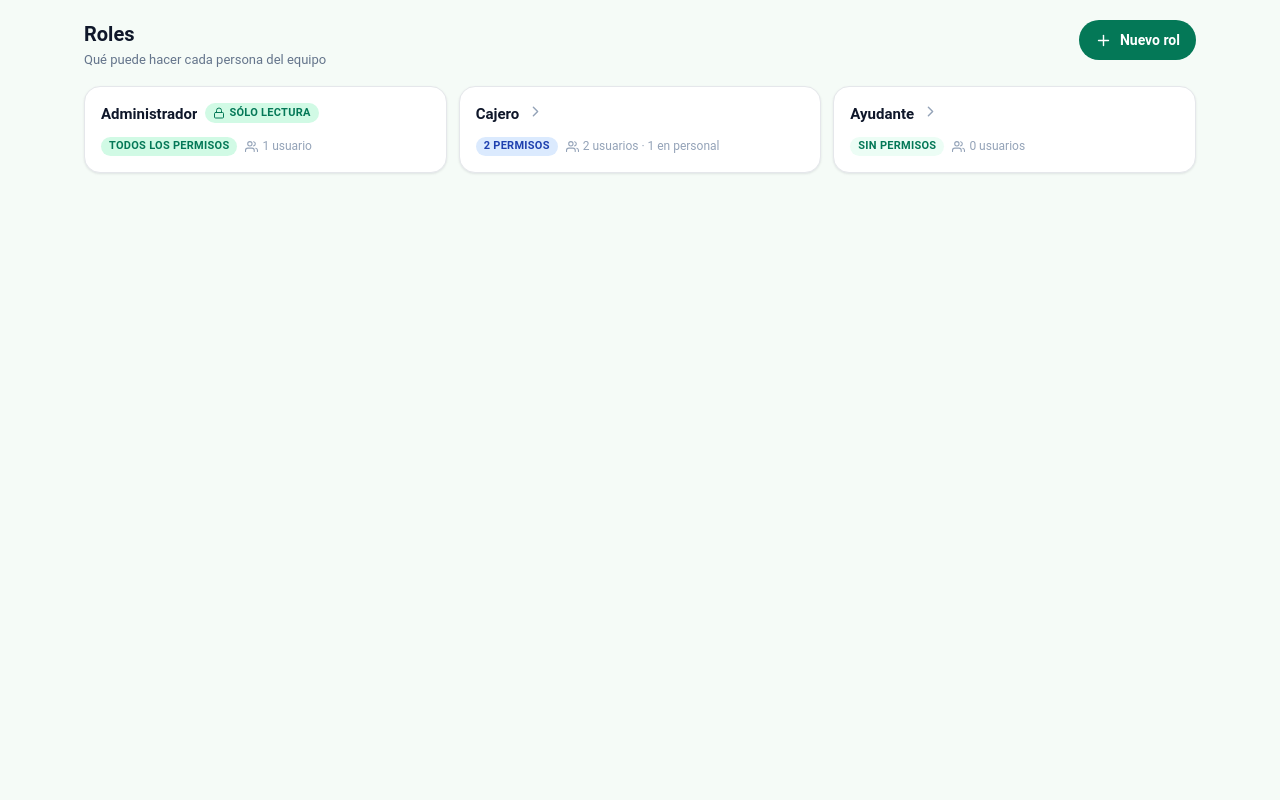
crear un rol › lo que el plan no incluye no aparece; lo que quien edita no tiene, apagado y con el motivo
The image size is (1280, 800).
Click the button "Nuevo rol": (1137,40) 1079,20 -> 1196,60
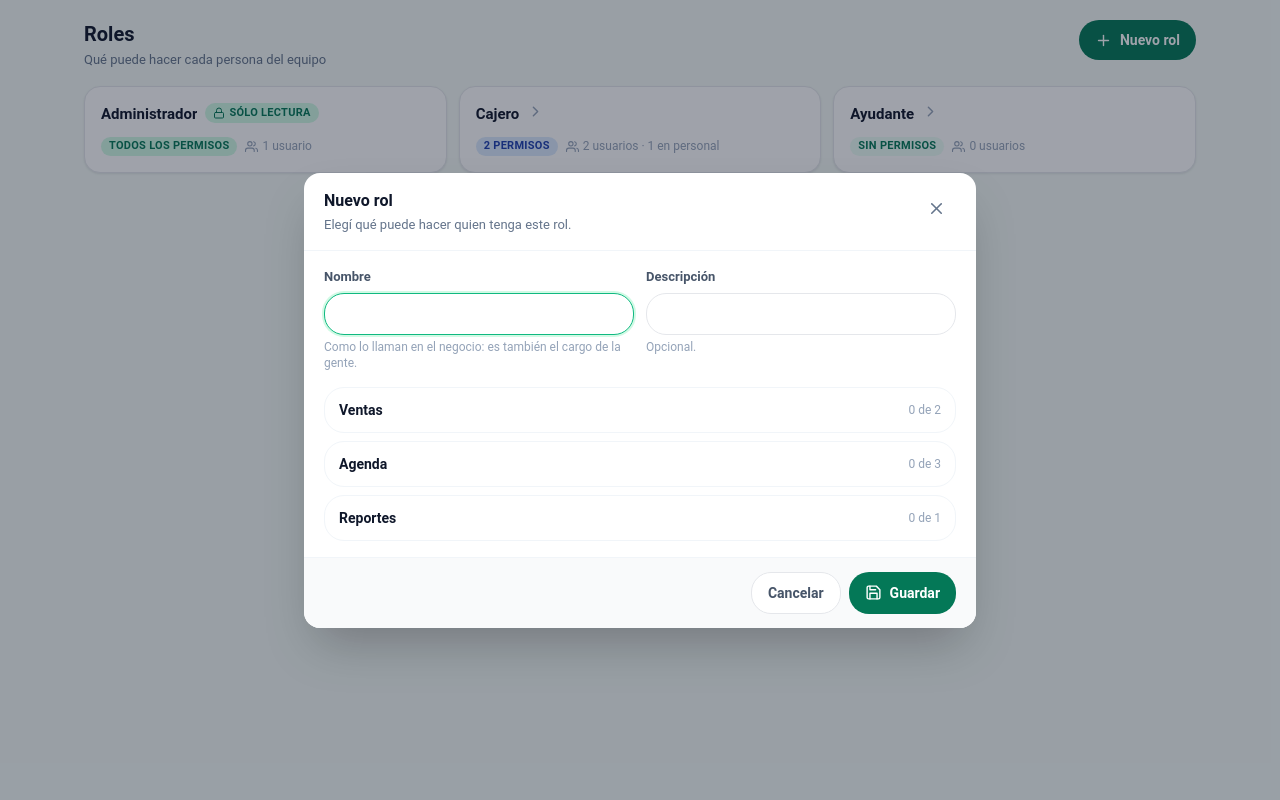
Click the text "Reportes": (368,518) 339,508 -> 396,528
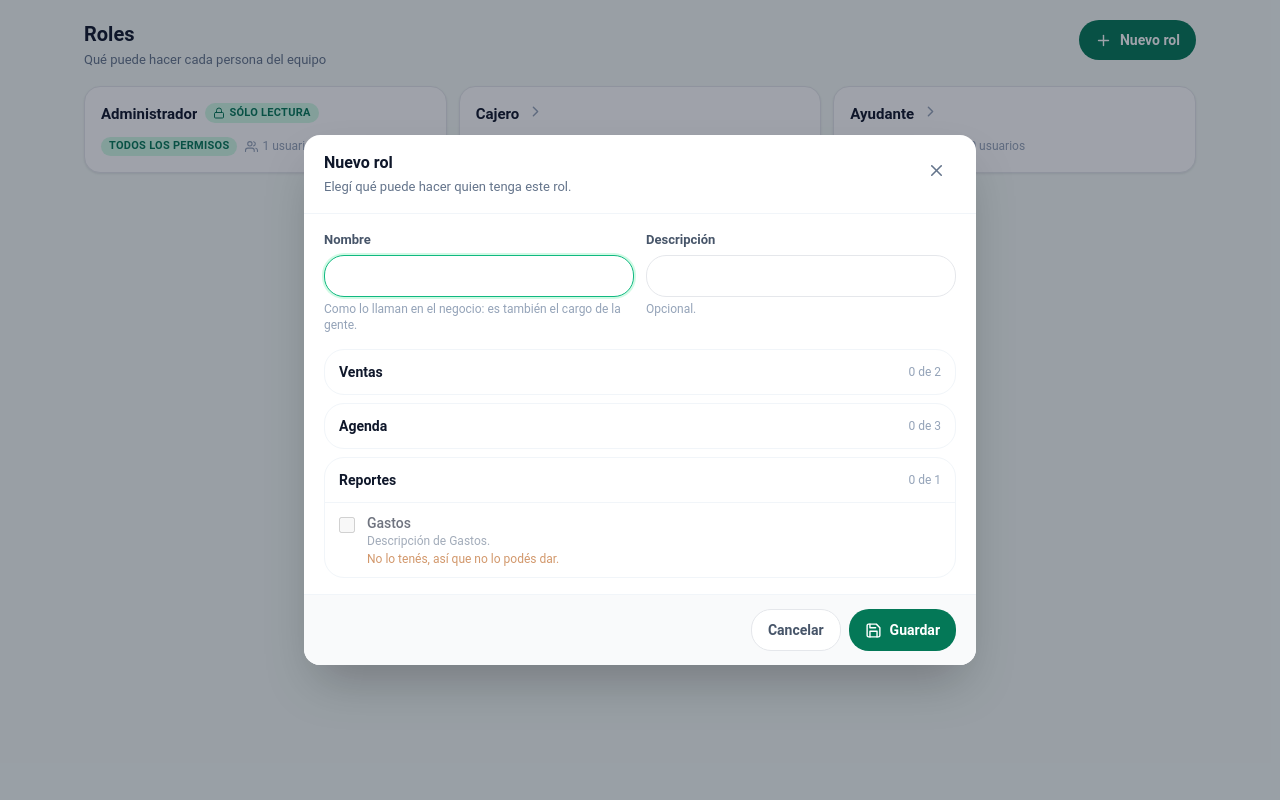
Check: the checkbox labelled "Gastos" is disabled, box 339,517 -> 355,533
Check: the text "No lo tenés, así que no lo podés dar." is shown, box 367,552 -> 559,566
